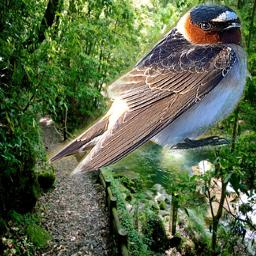Swallow: (46, 1, 249, 181)
